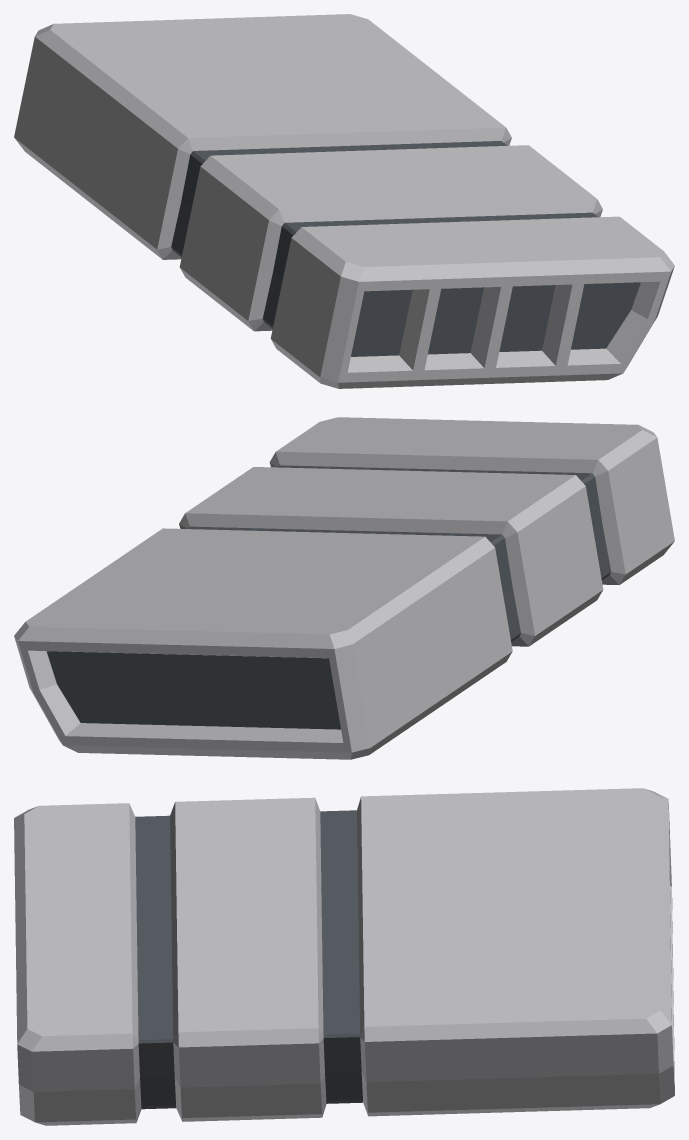
Rendered from Dropship_01_Artillery_Right.fbx.
3 views of the same model, one above another, from view 1: azimuth 30°, elevation 25°; view 2: azimuth 150°, elevation 25°; view 3: azimuth 270°, elevation 25° (orthographic). The views are drawn at different scales.
Parts seen in each view (by area): view 1: Dropship_01_Artillery_Right; view 2: Dropship_01_Artillery_Right; view 3: Dropship_01_Artillery_Right.
Boxes of the visible parts, bbox=[...] form: Dropship_01_Artillery_Right: bbox=[14, 14, 674, 388]; Dropship_01_Artillery_Right: bbox=[14, 417, 674, 759]; Dropship_01_Artillery_Right: bbox=[14, 788, 674, 1125].
Size of the model in its own units: 362 by 192 by 568.
1 material, 1 textured.
